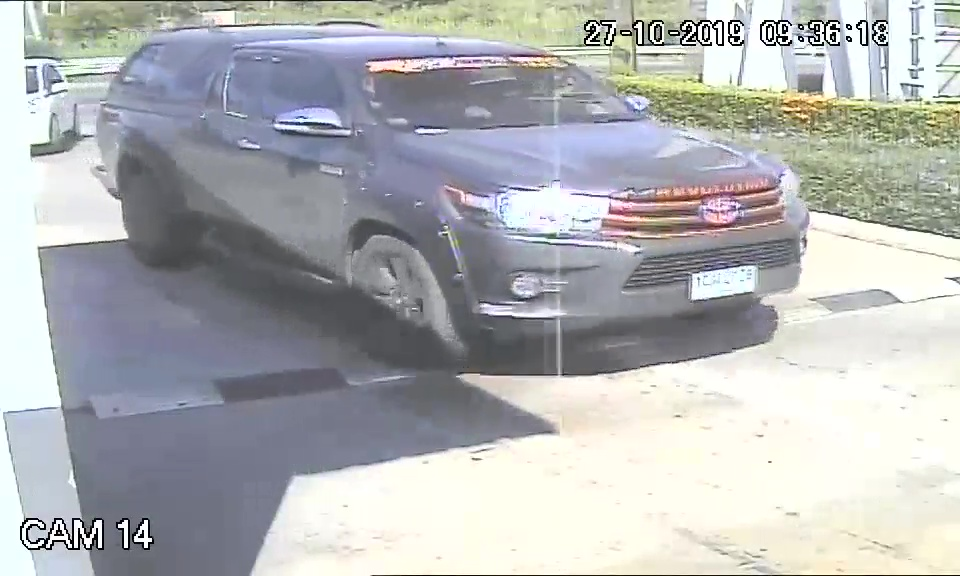pickup: (96, 22, 809, 372)
